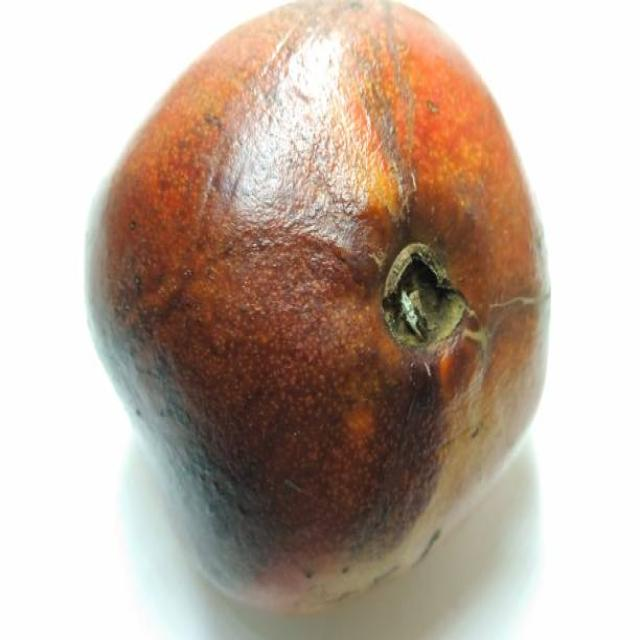overripe: (76, 0, 561, 617)
